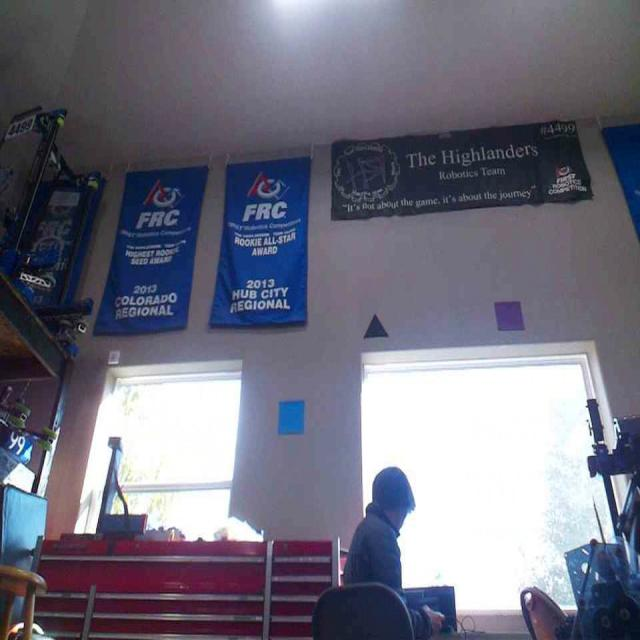square_blue: (275, 398, 307, 435)
square_purple: (491, 298, 526, 330)
triangle_black: (361, 313, 390, 339)
